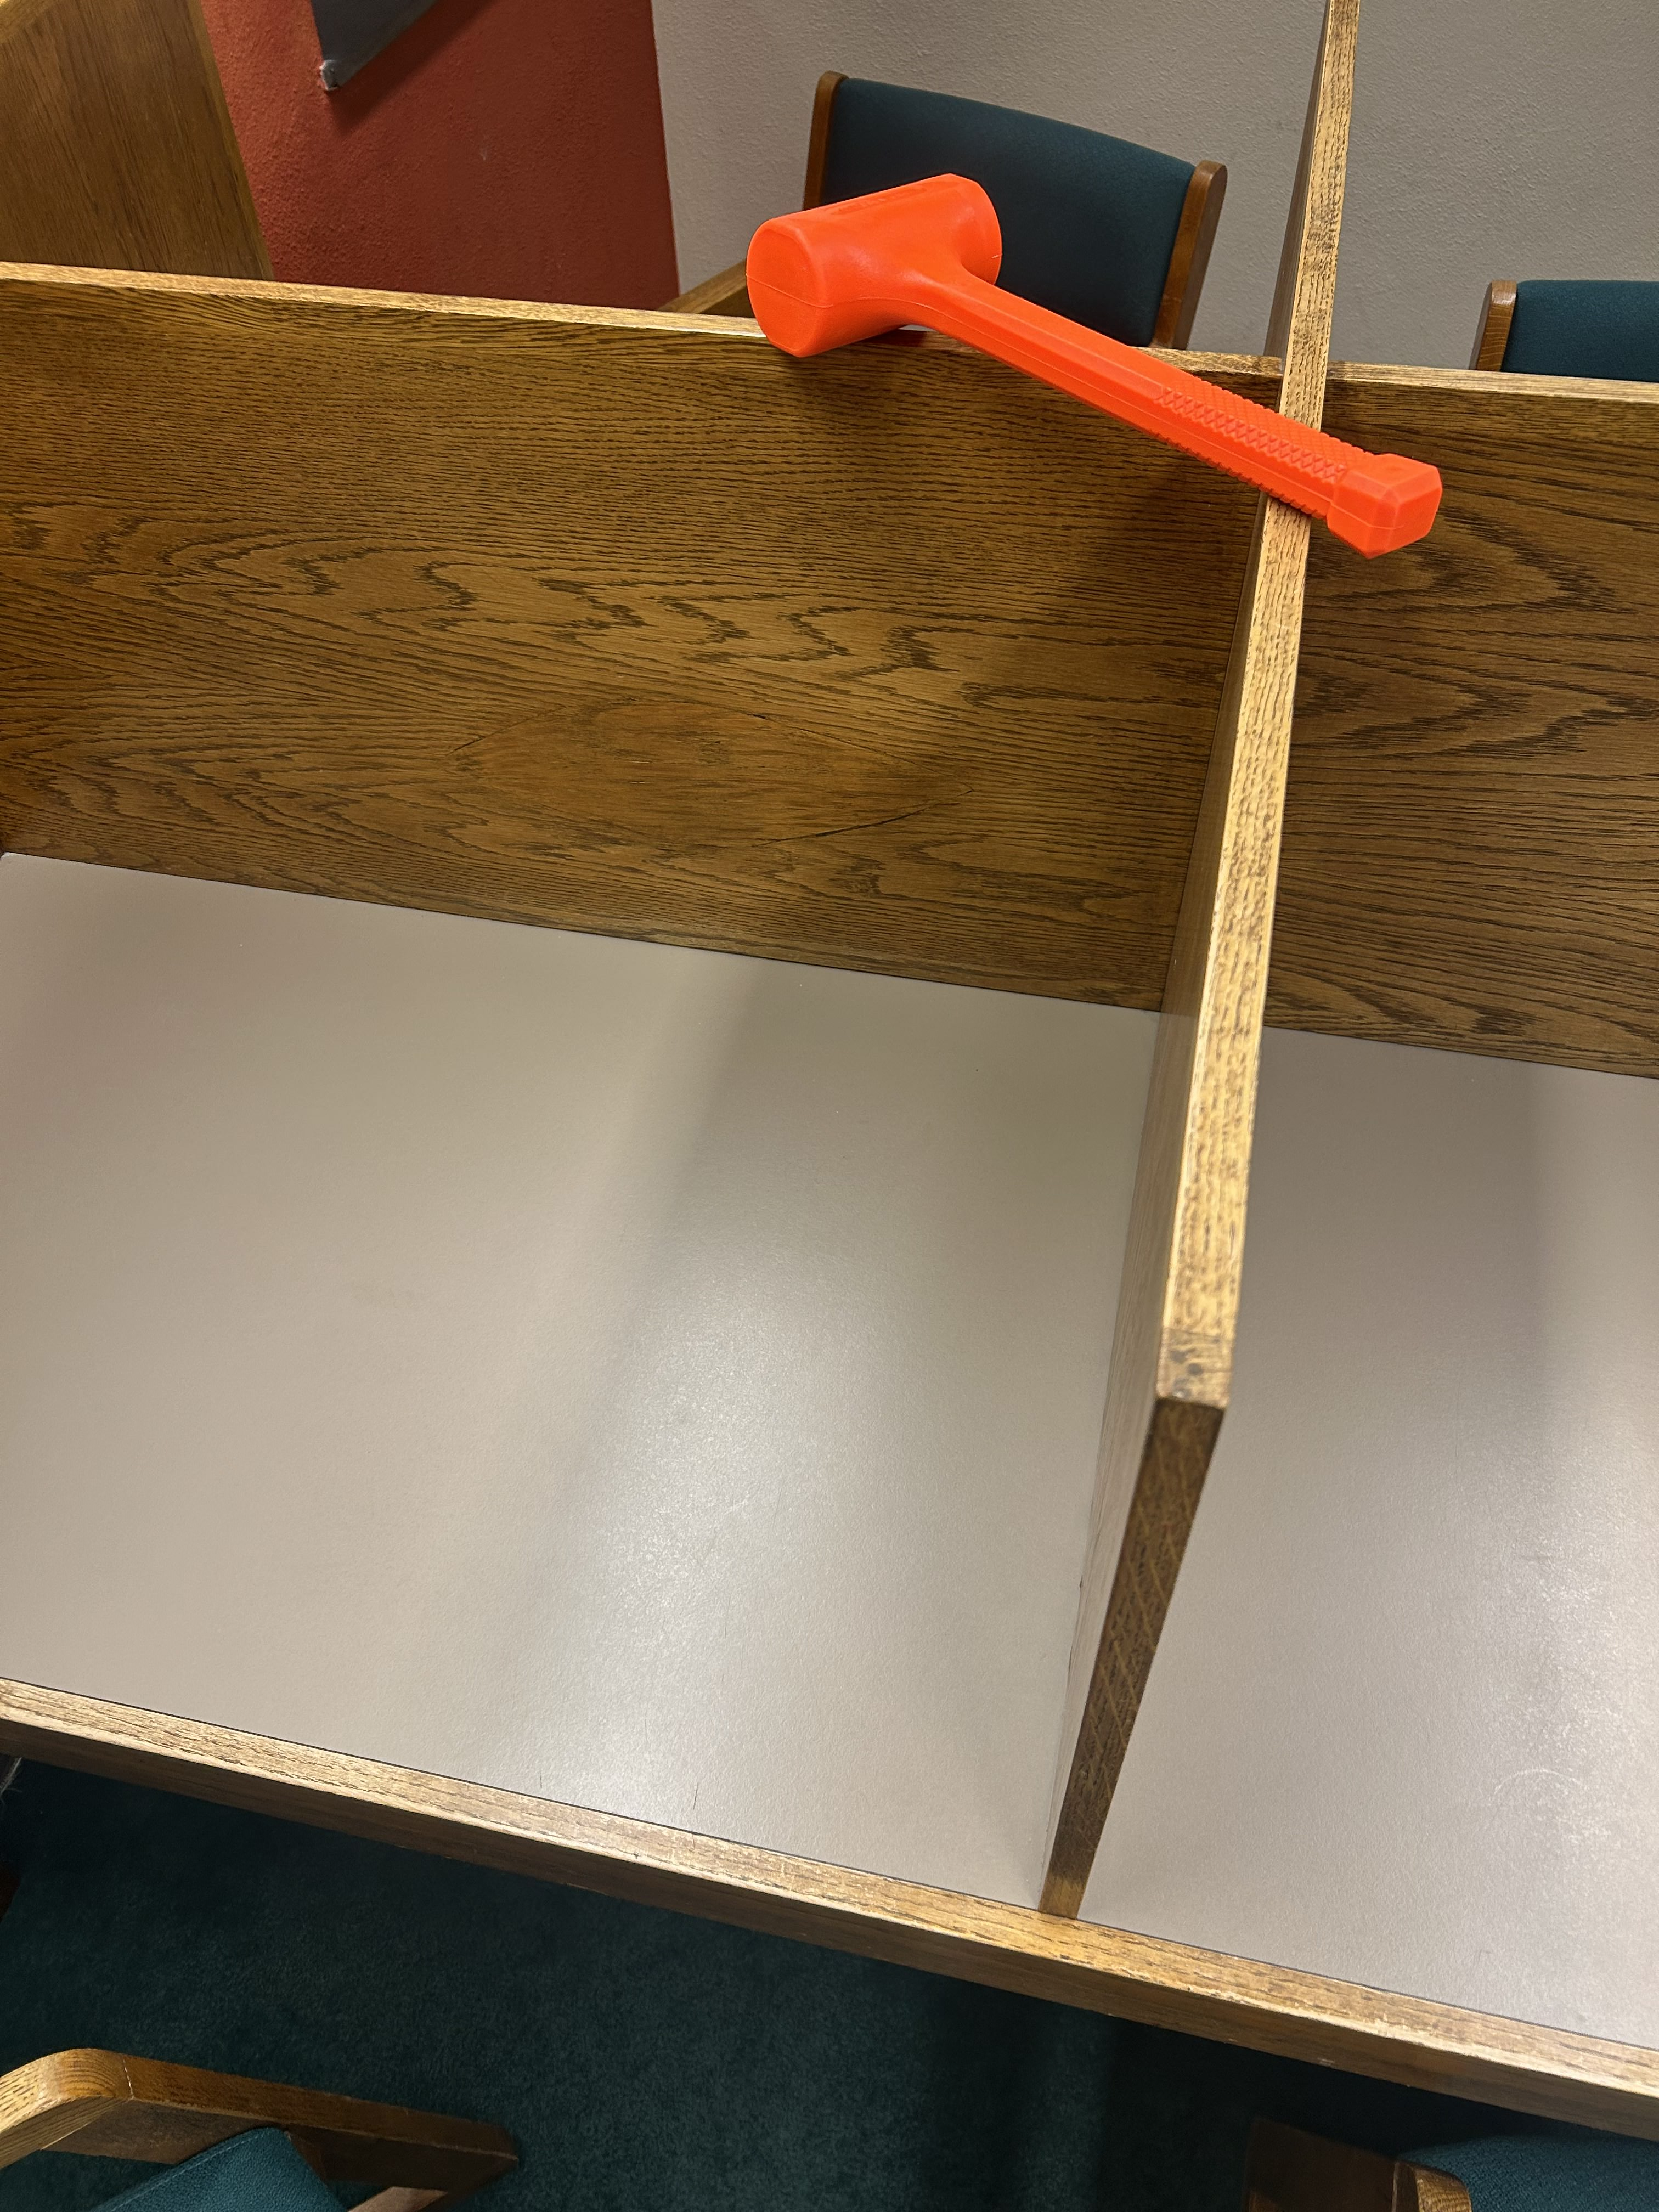Hammer: (725, 141, 1471, 570)
